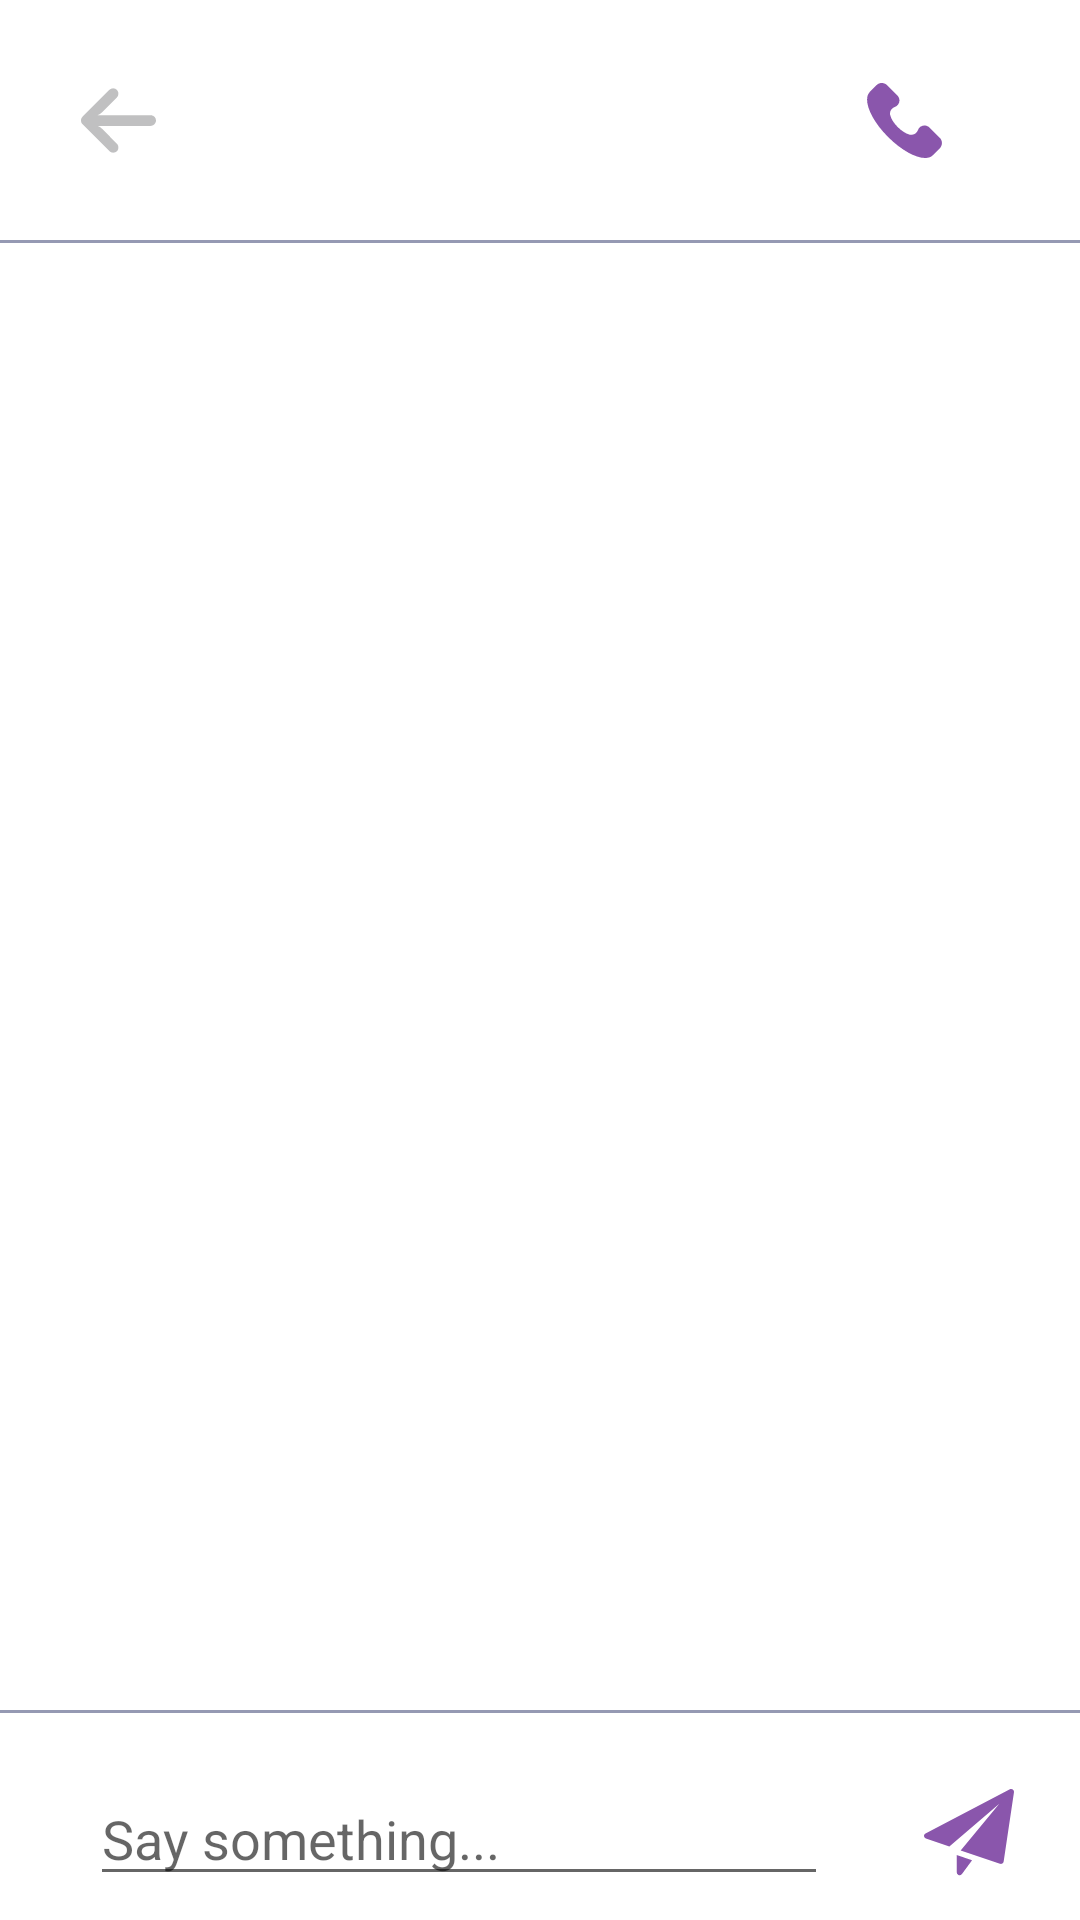

Locate icon controls on the screen. Image size 1080 x 1920, boxes as box(x1, y1, x2, y2).
arrow: box(81, 88, 156, 153)
phone call: box(867, 83, 942, 158)
send: box(924, 1789, 1014, 1876)
